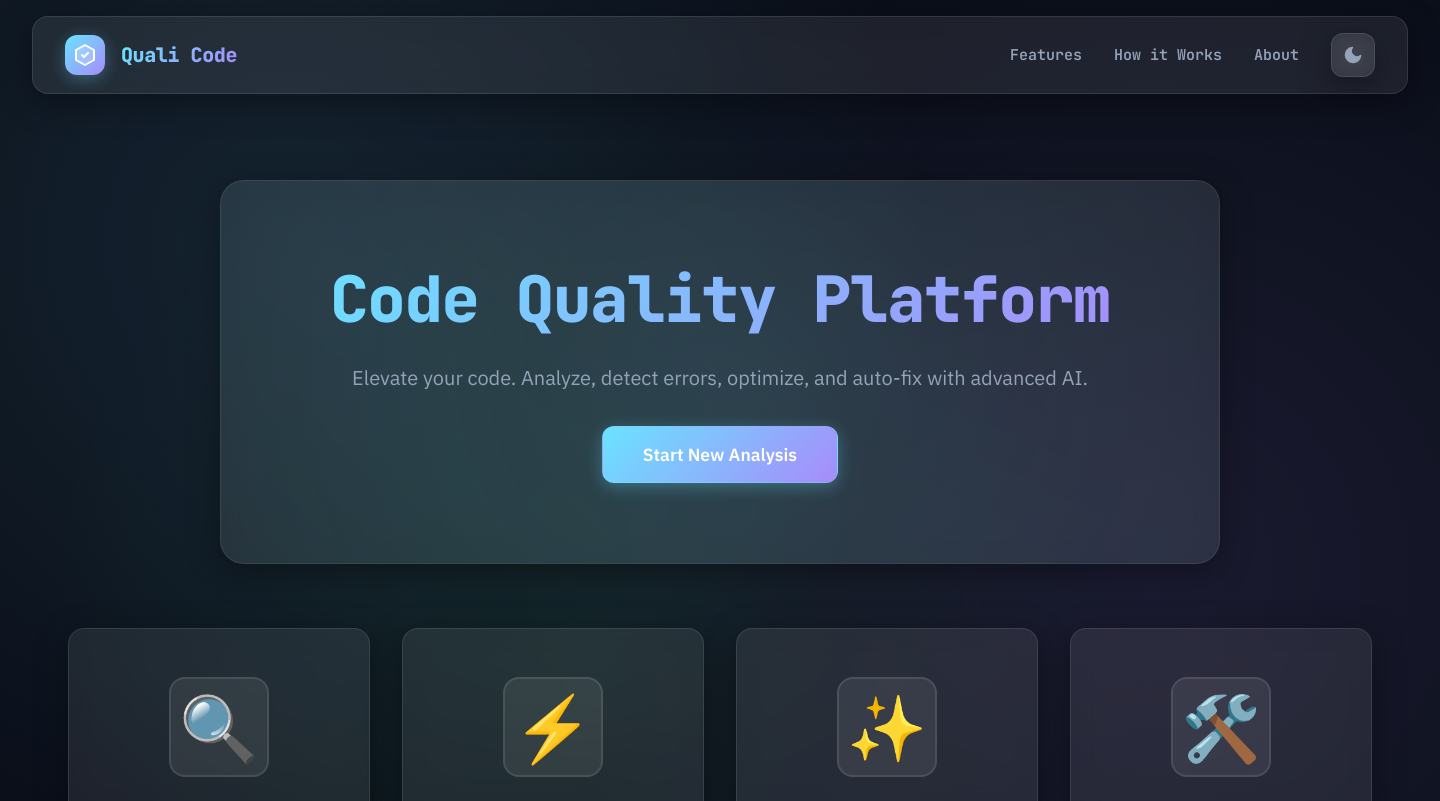
Test: App Component › should navigate to about page
Click the link "About": (1276, 55) [1254,37,1299,73]
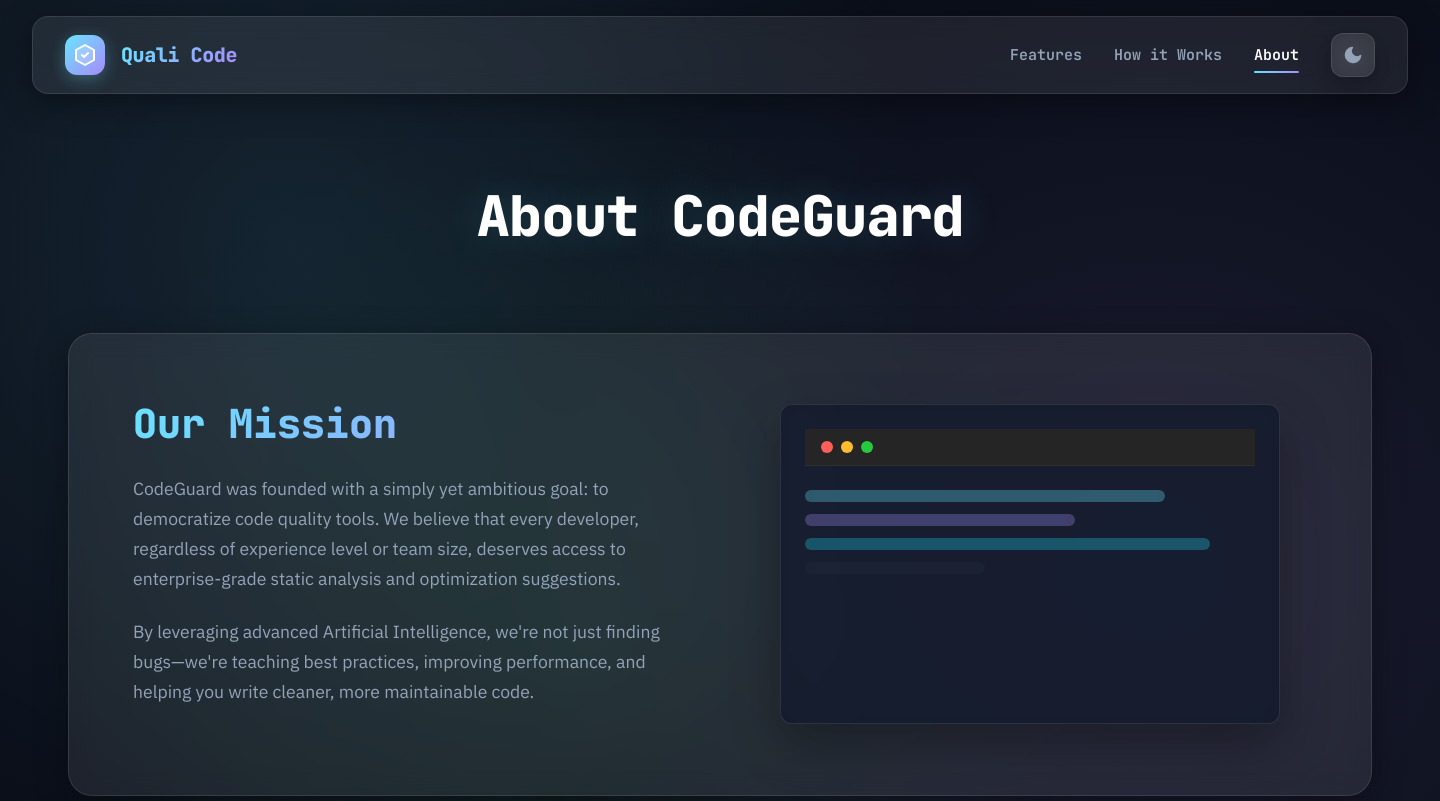
Check: the heading "Code Quality Platform" is gone
